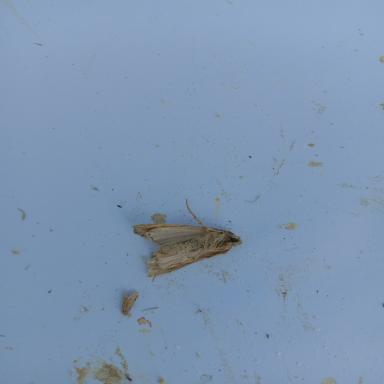abw: (129, 198, 247, 282)
